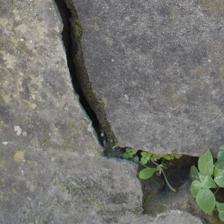Crack: (6, 73, 107, 151), (50, 56, 116, 168), (61, 125, 88, 177)
